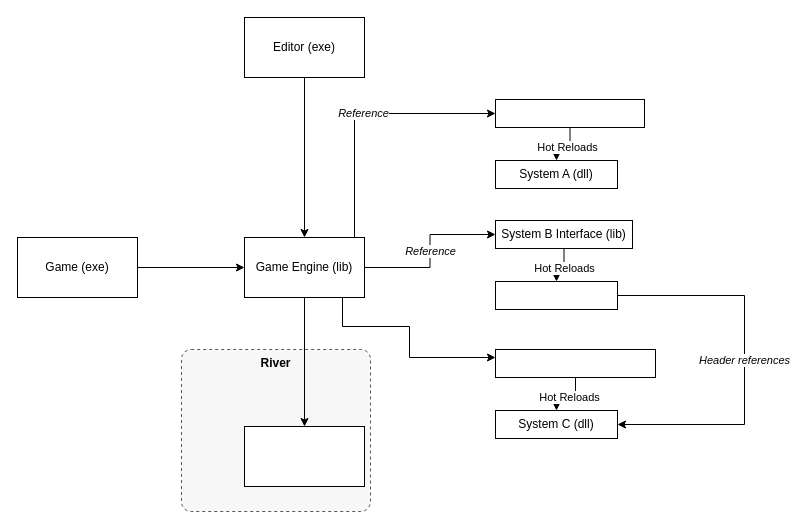
This 807x529 diagram has some shape labels left out. The shapes that lost their labels are listed below. From the top down, each one's centre as x and y in pixels, then its label:
At point 569,113: "System A Interface (lib)".
At point 556,295: "System B (dll)".
At point 575,363: "System C Interface (lib)".
At point 304,456: "River Engine (dll)".
